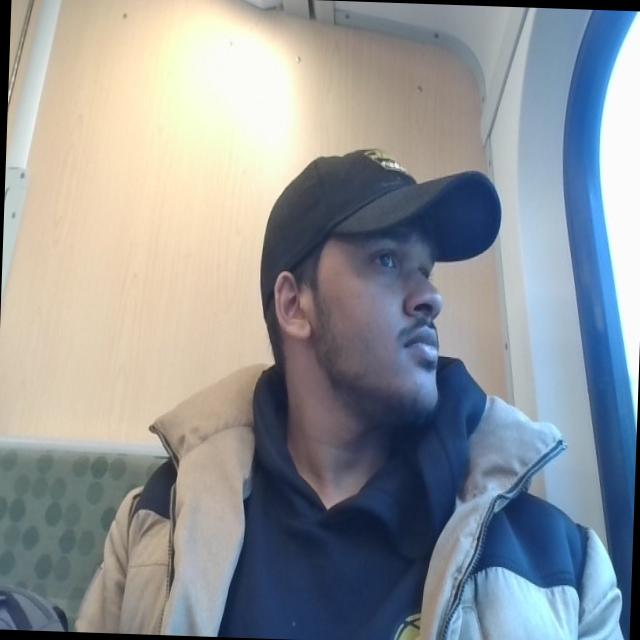hat: (253, 137, 512, 318)
